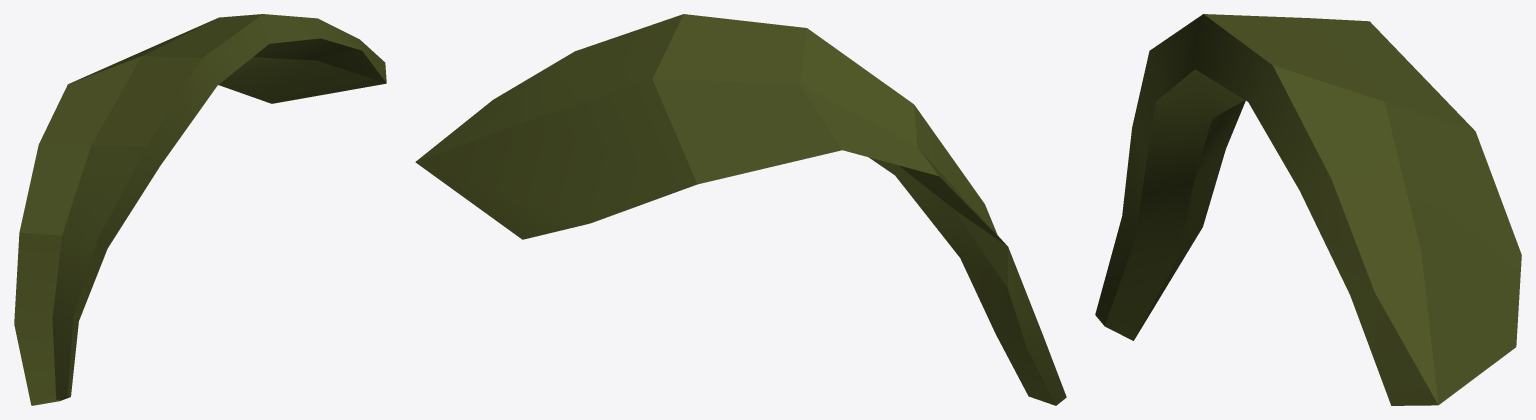
The model's file is ea_swamp_leaf_01a_pre__41_lev1.glb.
The picture shows the model from 3 angles, left to right: view 1: azimuth 30°, elevation 25°; view 2: azimuth 150°, elevation 25°; view 3: azimuth 270°, elevation 25°; orthographic projection. The views are drawn at different scales.
Visible parts, largest first — view 1: ea_swamp_leaf_01a_pre__41_lev1; view 2: ea_swamp_leaf_01a_pre__41_lev1; view 3: ea_swamp_leaf_01a_pre__41_lev1.
Part boxes in pixels (box(x1,y1,x2,y2)): ea_swamp_leaf_01a_pre__41_lev1: box(14, 14, 386, 405); ea_swamp_leaf_01a_pre__41_lev1: box(415, 14, 1066, 405); ea_swamp_leaf_01a_pre__41_lev1: box(1095, 14, 1521, 405).
Bounding box in the file's own units: 1.43 × 0.8882 × 0.7349.
1 material, 1 textured.
